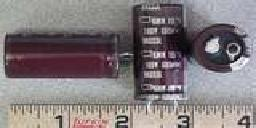Electrolytic-capacitor: (3, 29, 124, 81), (132, 3, 187, 103), (190, 23, 254, 71)
